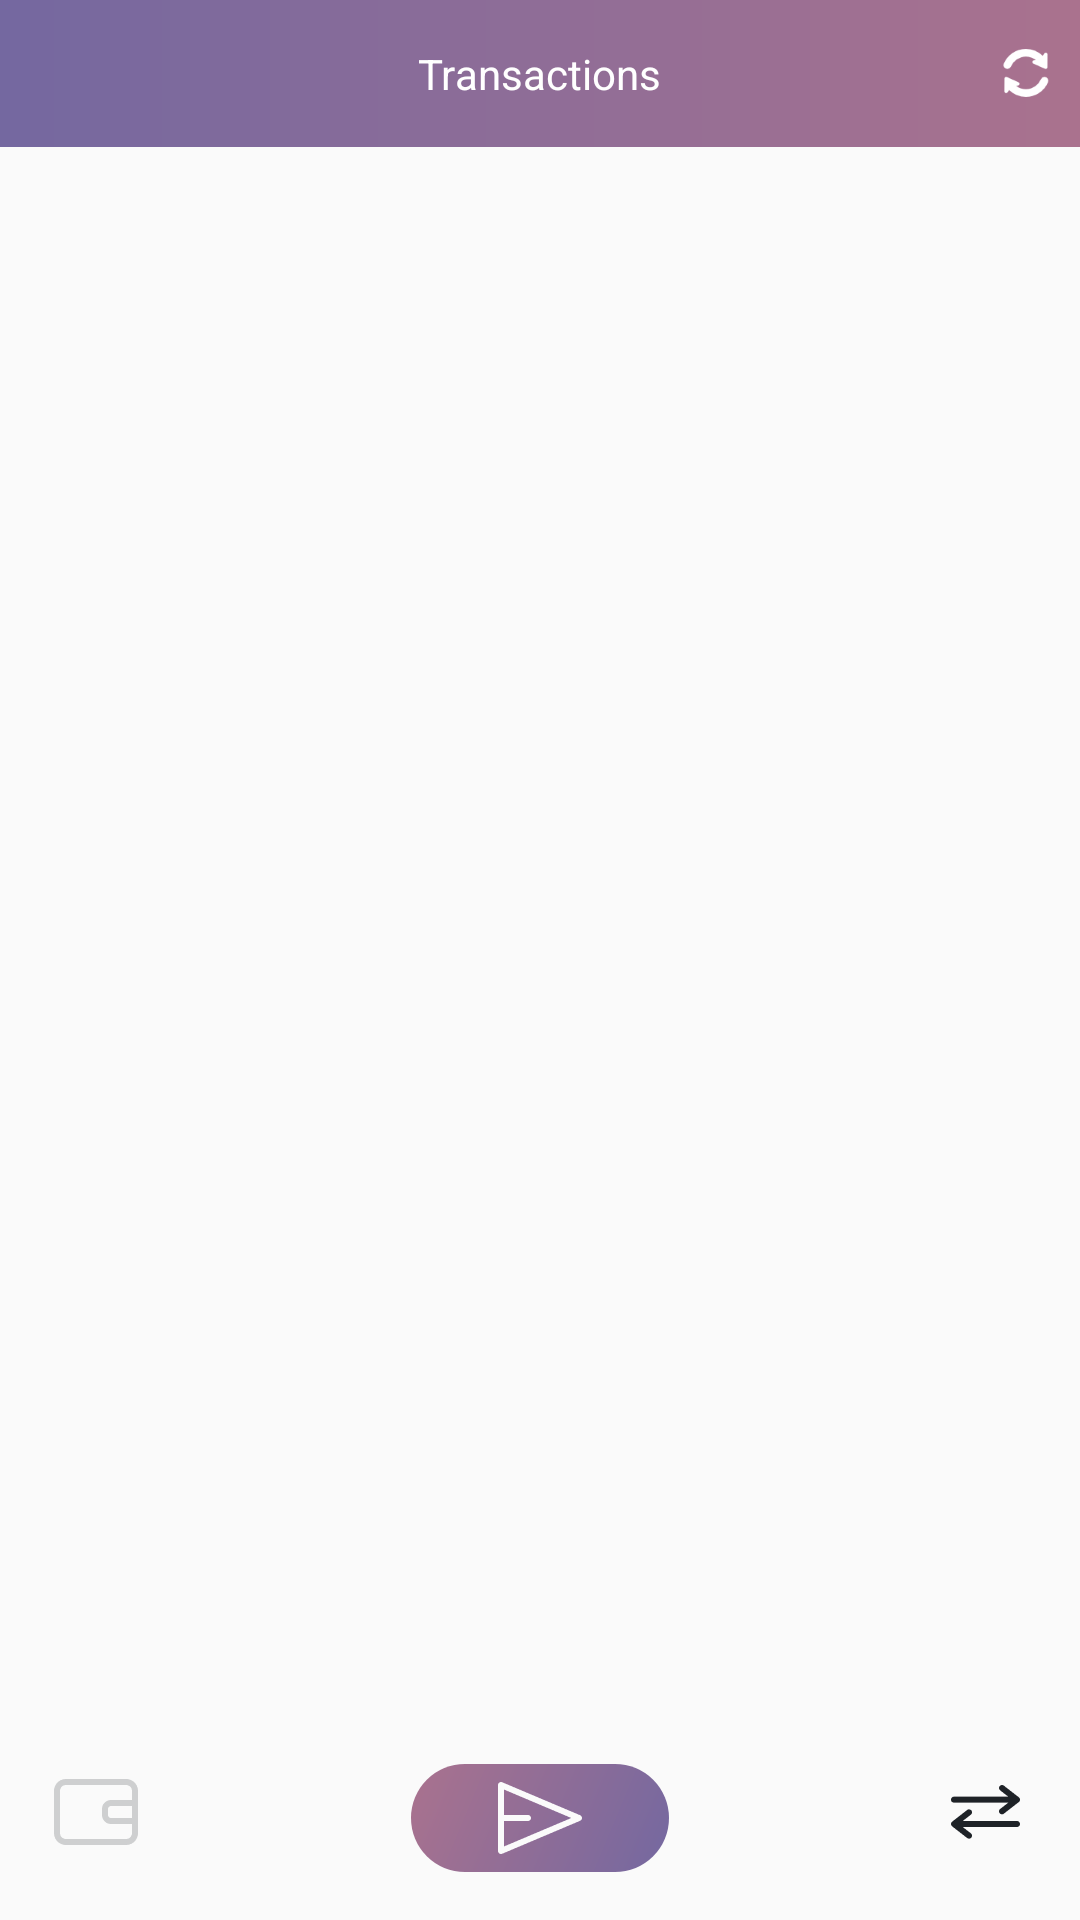

Locate icon controls on the screen. Image size 1080 × 1920, boxes as (x1, y1, x2, y2).
refresh: (1003, 49, 1049, 97)
send: (498, 1782, 582, 1854)
transactions: (951, 1785, 1020, 1839)
wallet: (54, 1779, 138, 1845)
